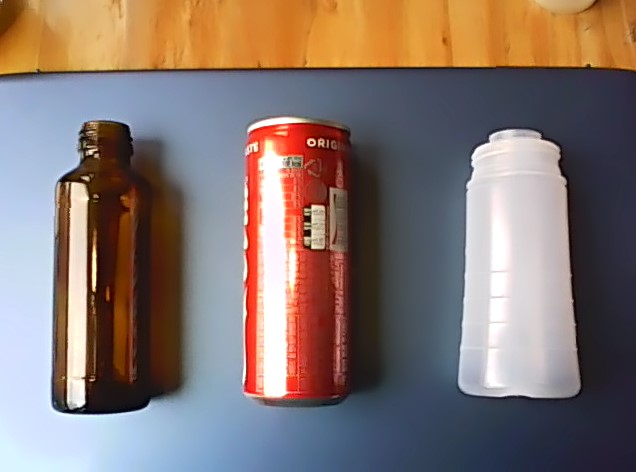Can: (238, 112, 356, 410)
Glass: (48, 116, 154, 417)
Plastic: (451, 125, 585, 402)
